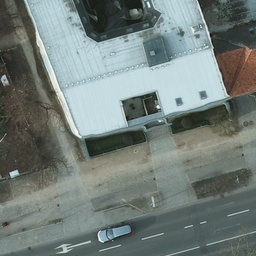car: (98, 221, 138, 245)
